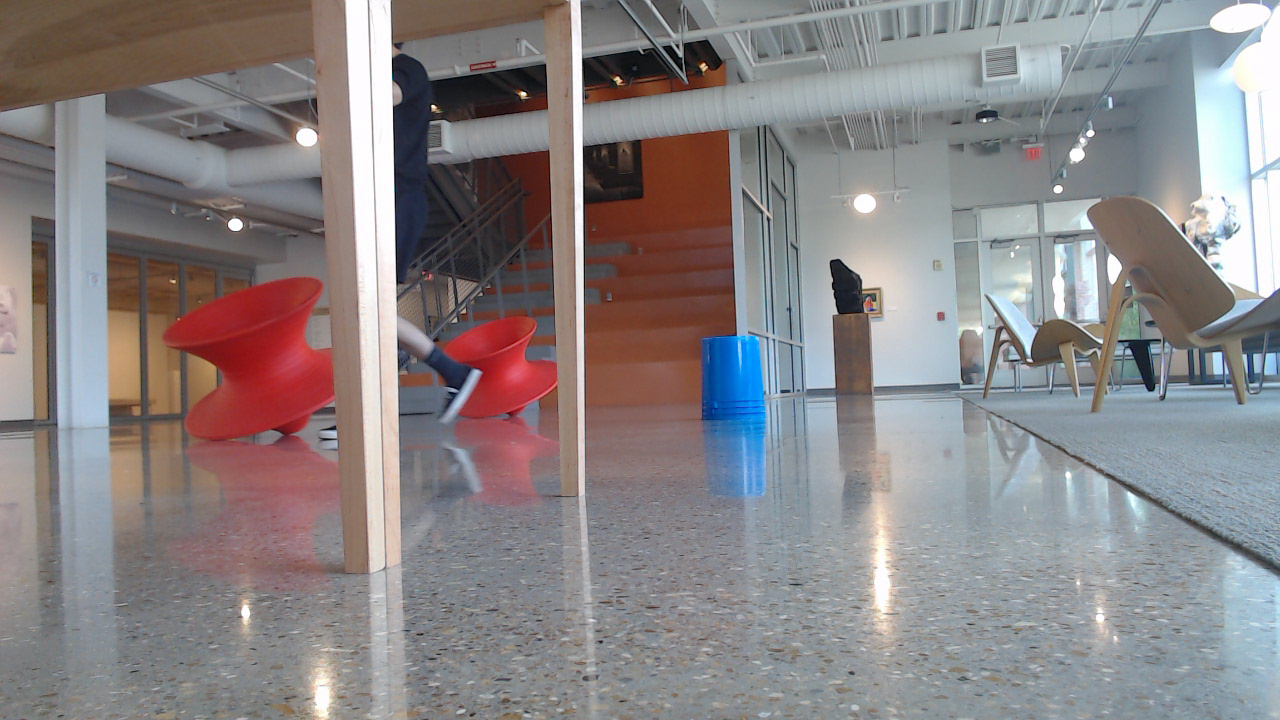blue_bucket: (704, 340, 770, 429)
